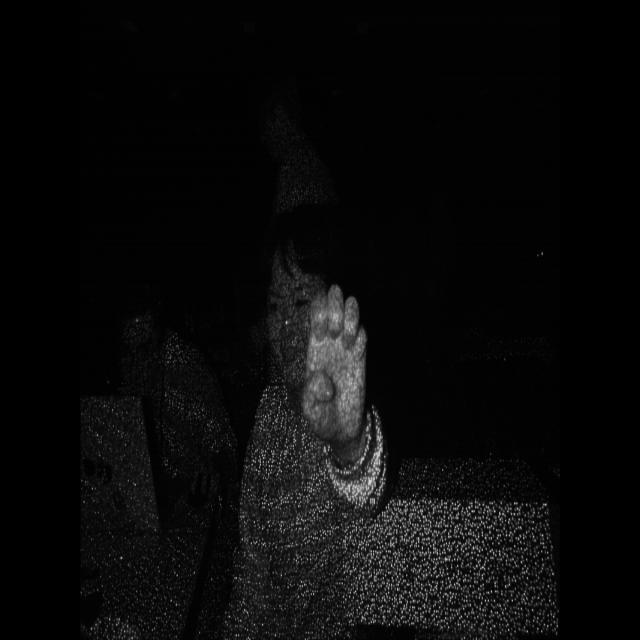E: (295, 273, 382, 454)
